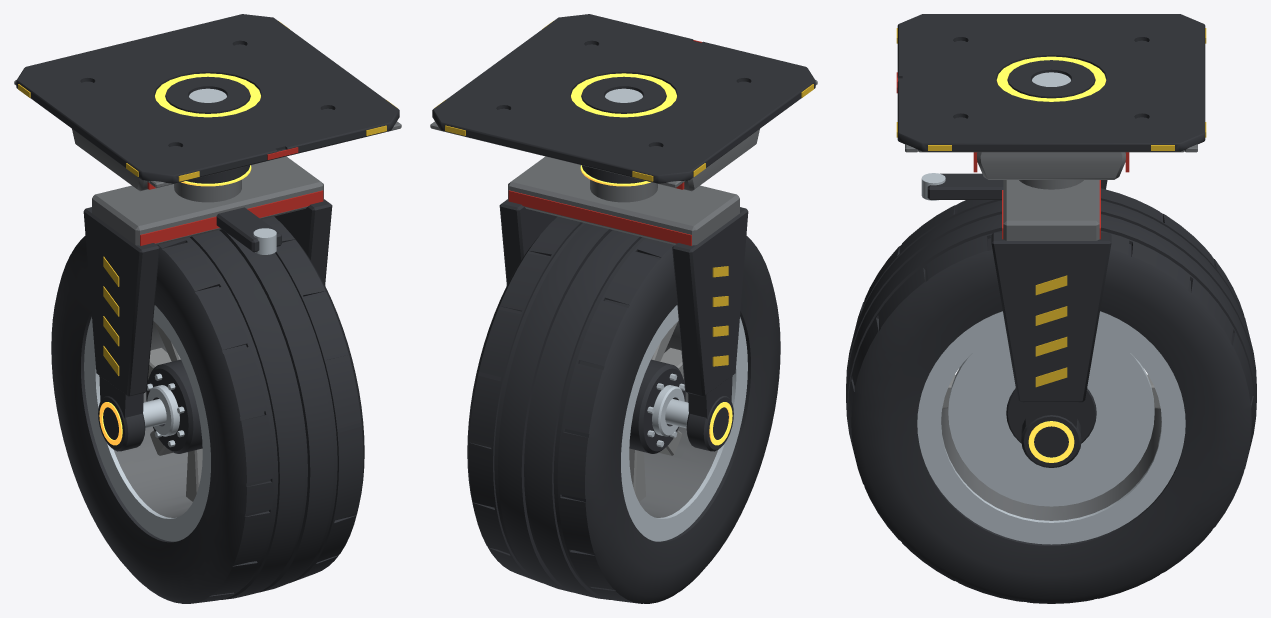
Rendered from R4M_WheelM_Steer_Road.glb.
The picture shows the model from 3 angles, left to right: view 1: azimuth 30°, elevation 25°; view 2: azimuth 150°, elevation 25°; view 3: azimuth 270°, elevation 25°; orthographic projection. The views are drawn at different scales.
Visible parts, largest first — view 1: R4M_WheelM_Steer_Road_Rotor, R4M_WheelM_Steer_Road_Mount, R4M_WheelM_Steer_Road_Knuckle; view 2: R4M_WheelM_Steer_Road_Rotor, R4M_WheelM_Steer_Road_Mount, R4M_WheelM_Steer_Road_Knuckle; view 3: R4M_WheelM_Steer_Road_Rotor, R4M_WheelM_Steer_Road_Mount, R4M_WheelM_Steer_Road_Knuckle.
Part boxes in pixels (x1,y1,x2,y2): R4M_WheelM_Steer_Road_Rotor: (51,216,364,603); R4M_WheelM_Steer_Road_Mount: (14,14,401,191); R4M_WheelM_Steer_Road_Knuckle: (83,156,332,451); R4M_WheelM_Steer_Road_Rotor: (467,216,780,603); R4M_WheelM_Steer_Road_Mount: (430,14,817,191); R4M_WheelM_Steer_Road_Knuckle: (499,156,748,451); R4M_WheelM_Steer_Road_Rotor: (846,188,1256,603); R4M_WheelM_Steer_Road_Mount: (896,14,1206,179); R4M_WheelM_Steer_Road_Knuckle: (921,173,1111,467).
Bounding box in the file's own units: 0.5126 × 0.915 × 0.68.
